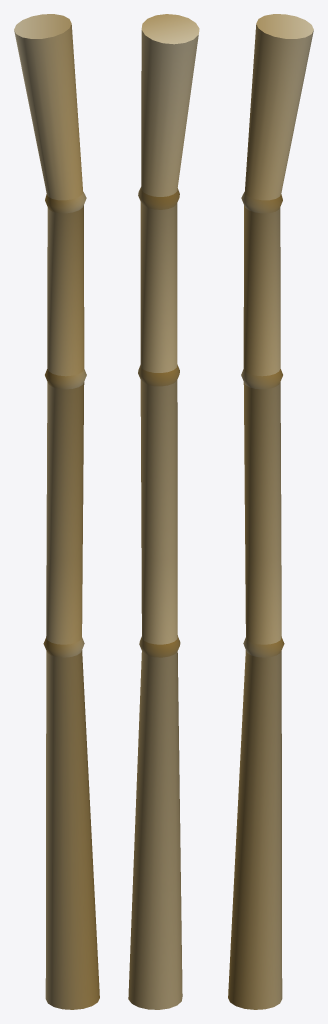
File: Brake_Bamboo Sticks.FBX
The picture shows the model from 3 angles, left to right: view 1: azimuth 90°, elevation 25°; view 2: azimuth 210°, elevation 25°; view 3: azimuth 270°, elevation 25°; orthographic projection.
Parts seen in each view (by area): view 1: Bamboo Sticks_Part_2, Bamboo Sticks_Part_1; view 2: Bamboo Sticks_Part_2, Bamboo Sticks_Part_1; view 3: Bamboo Sticks_Part_2, Bamboo Sticks_Part_1.
Part boxes in pixels (x1,y1,x2,y2): Bamboo Sticks_Part_2: (14, 14, 86, 561); Bamboo Sticks_Part_1: (43, 554, 99, 1009); Bamboo Sticks_Part_2: (138, 14, 199, 559); Bamboo Sticks_Part_1: (128, 553, 182, 1009); Bamboo Sticks_Part_2: (241, 14, 313, 561); Bamboo Sticks_Part_1: (228, 554, 284, 1009).
Size of the model in its own units: 1.8 by 33.28 by 2.66.
Materials: 1 (1 with a texture image).
